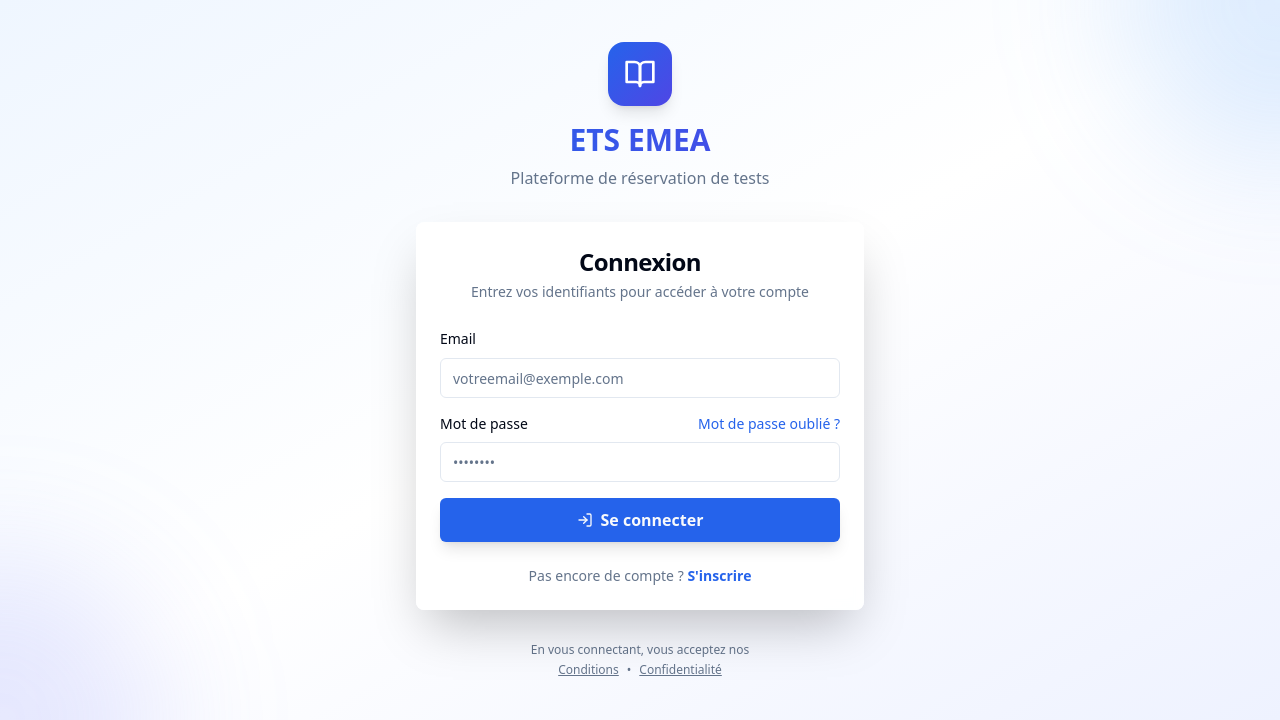
Scenario: Login Page › should show loading state during login
In the field labelled "Email": [640, 378] box [440, 358, 840, 398], type "test@example.com"
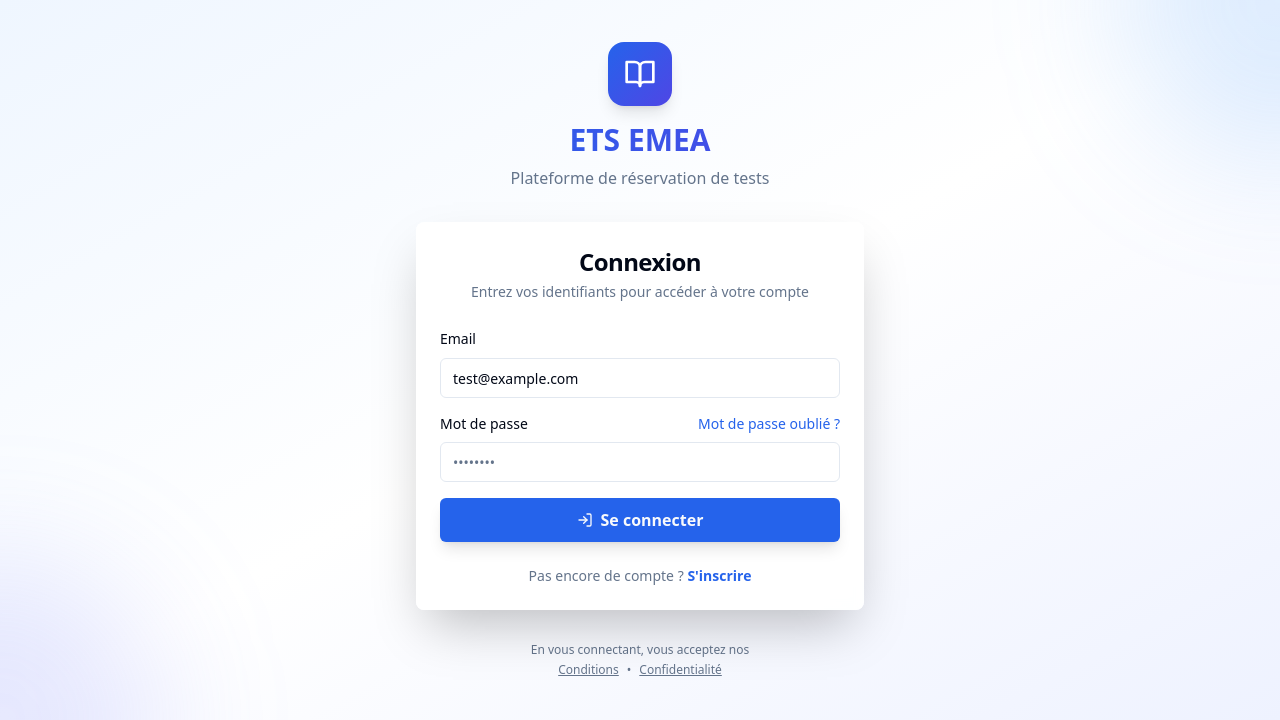
In the password field labelled "Mot de passe": [640, 462] box [440, 442, 840, 482], type "Password123!"
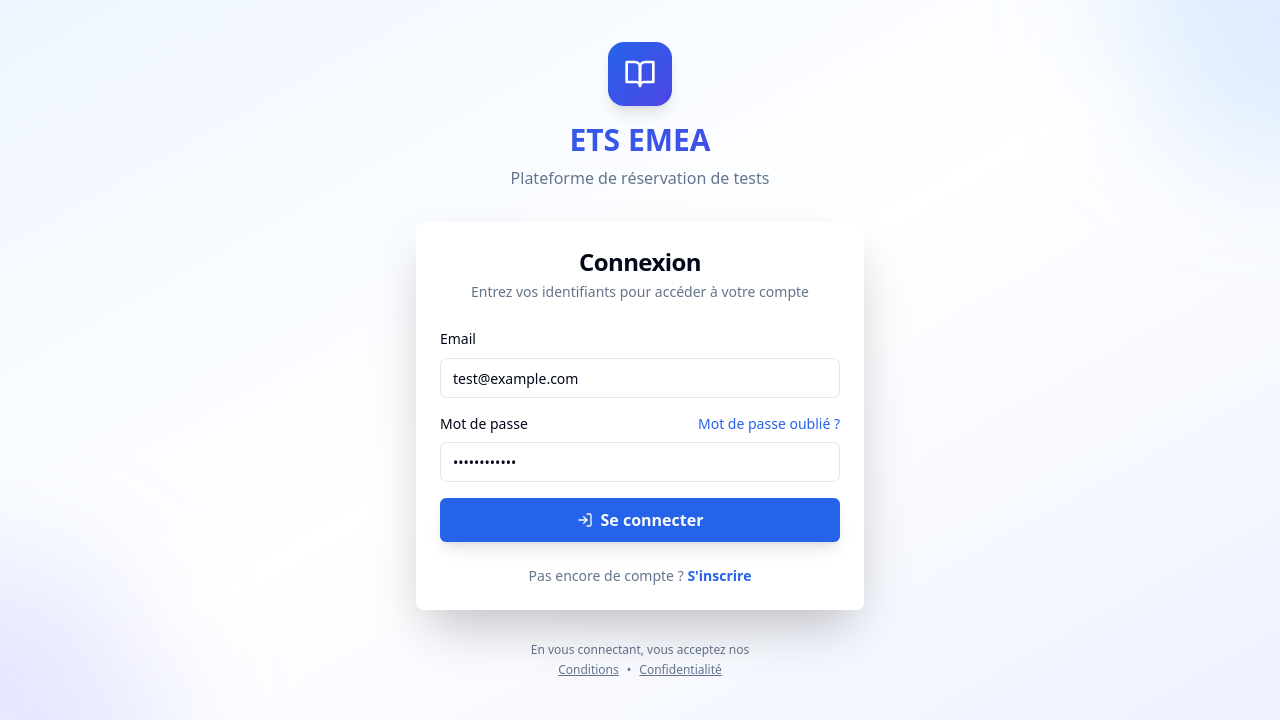
Click the button "Se connecter": [640, 520] box [440, 498, 840, 542]
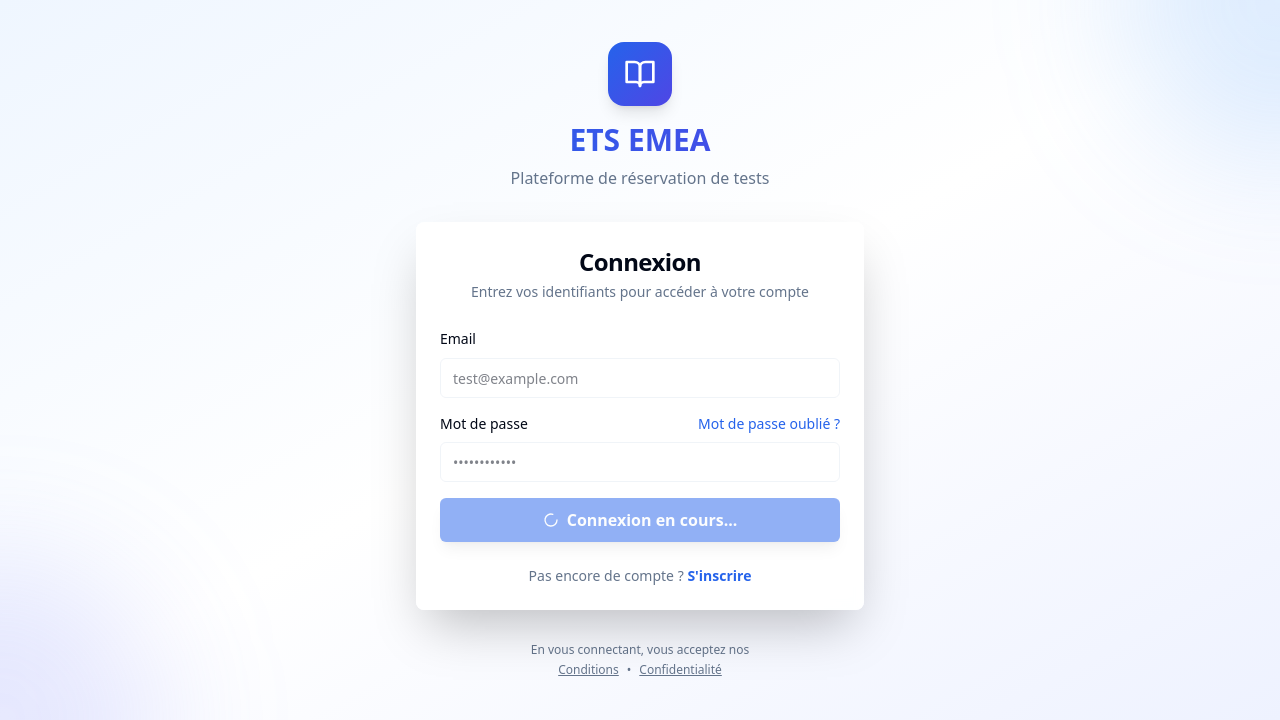
Result: the button "Connexion en cours..." is shown at [440, 498, 840, 542]
